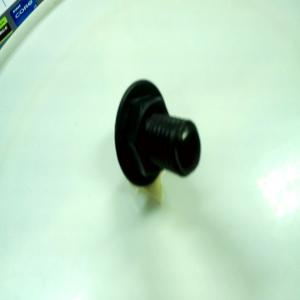parafuso: (113, 77, 203, 188), (114, 79, 201, 187)
